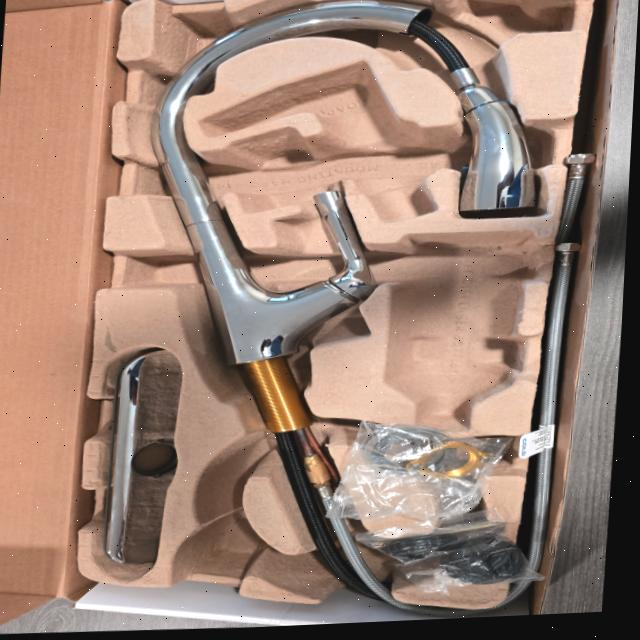1: (149, 0, 536, 605)
2m: (198, 64, 438, 223)
3m: (387, 233, 529, 431)
4: (104, 349, 184, 566)
5m: (190, 514, 260, 571)
6: (326, 420, 512, 531)
7: (356, 507, 541, 596)
